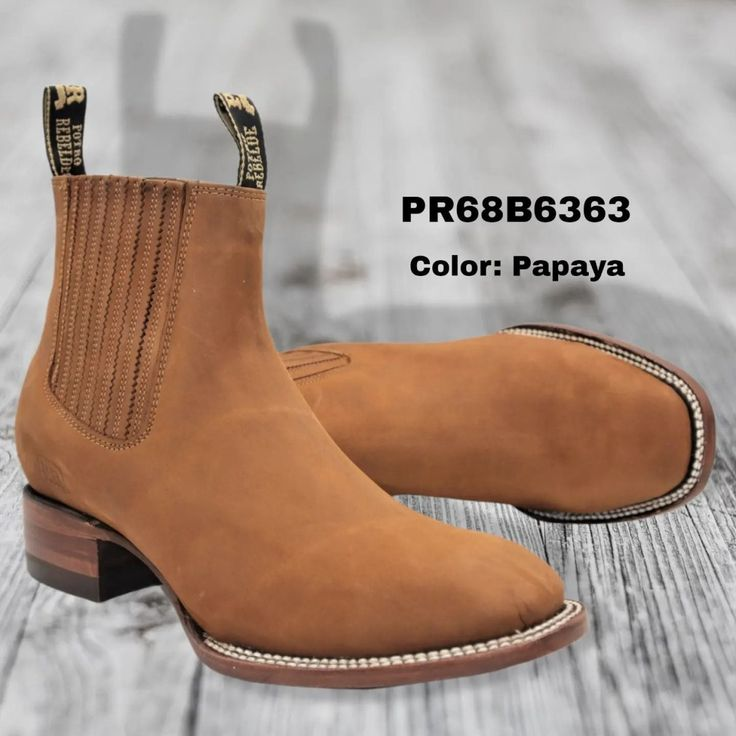gamuza: (15, 174, 692, 660)
